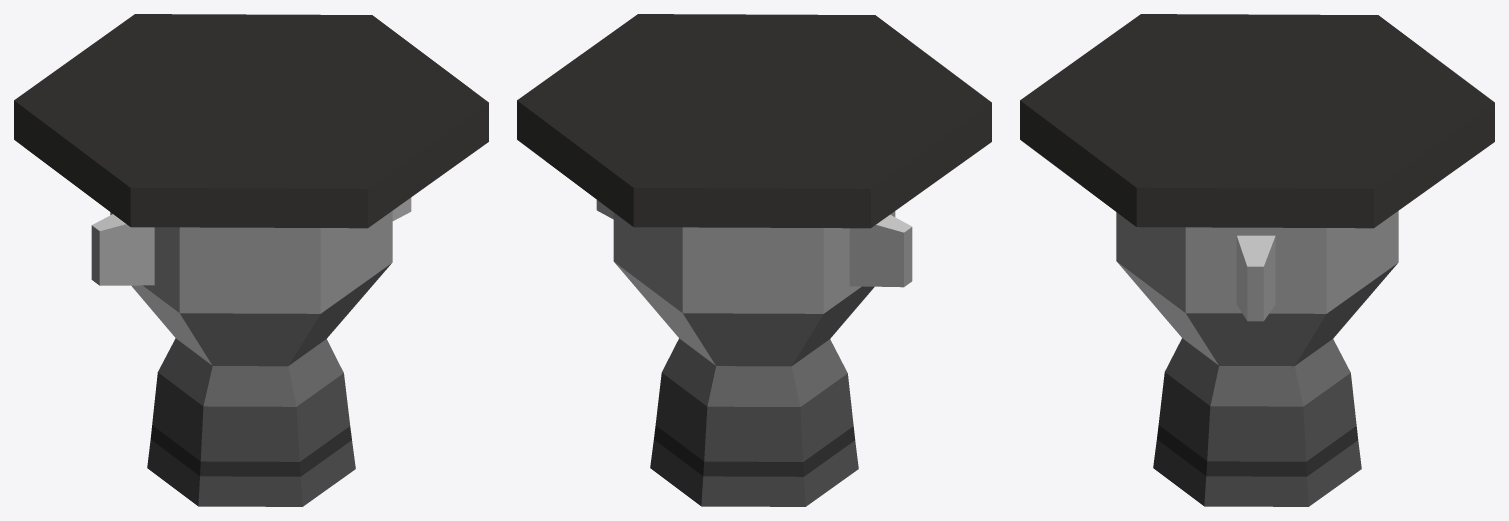
The model's file is SM_Veh_Thruster_01.fbx.
3 views of the same model, side by side, from view 1: azimuth 30°, elevation 25°; view 2: azimuth 150°, elevation 25°; view 3: azimuth 270°, elevation 25° (orthographic).
Visible parts, largest first — view 1: SM_Veh_Thruster_01; view 2: SM_Veh_Thruster_01; view 3: SM_Veh_Thruster_01.
Part boxes in pixels (x1,y1,x2,y2): SM_Veh_Thruster_01: (14, 14, 488, 506); SM_Veh_Thruster_01: (517, 14, 991, 506); SM_Veh_Thruster_01: (1020, 14, 1494, 506).
Size of the model in its own units: 1.04 by 1.02 by 1.19.
